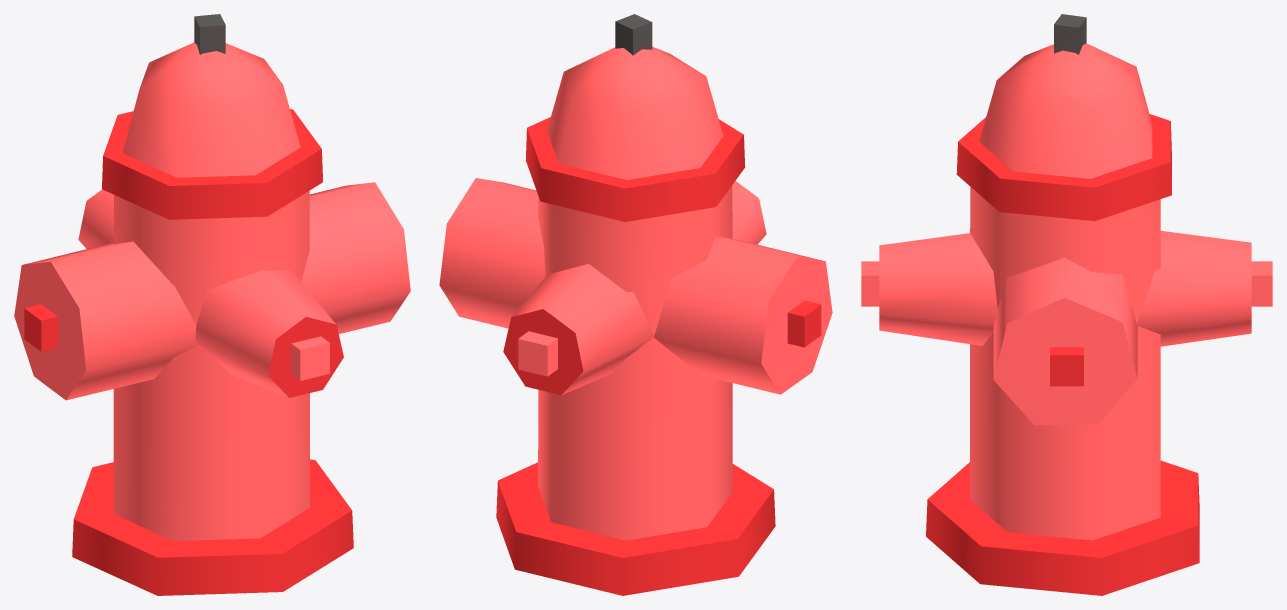
File: city2-hydrant-01.glb
3 views of the same model, side by side, from view 1: azimuth 30°, elevation 25°; view 2: azimuth 150°, elevation 25°; view 3: azimuth 270°, elevation 25° (orthographic).
Parts seen in each view (by area): view 1: Hydrant_01; view 2: Hydrant_01; view 3: Hydrant_01.
Boxes of the visible parts, box(x1,y1,x2,y2) form: Hydrant_01: box(14, 14, 410, 595); Hydrant_01: box(439, 14, 832, 595); Hydrant_01: box(861, 14, 1272, 595).
Size of the model in its own units: 0.6325 by 0.875 by 0.6326.
Materials: 1 (1 with a texture image).
